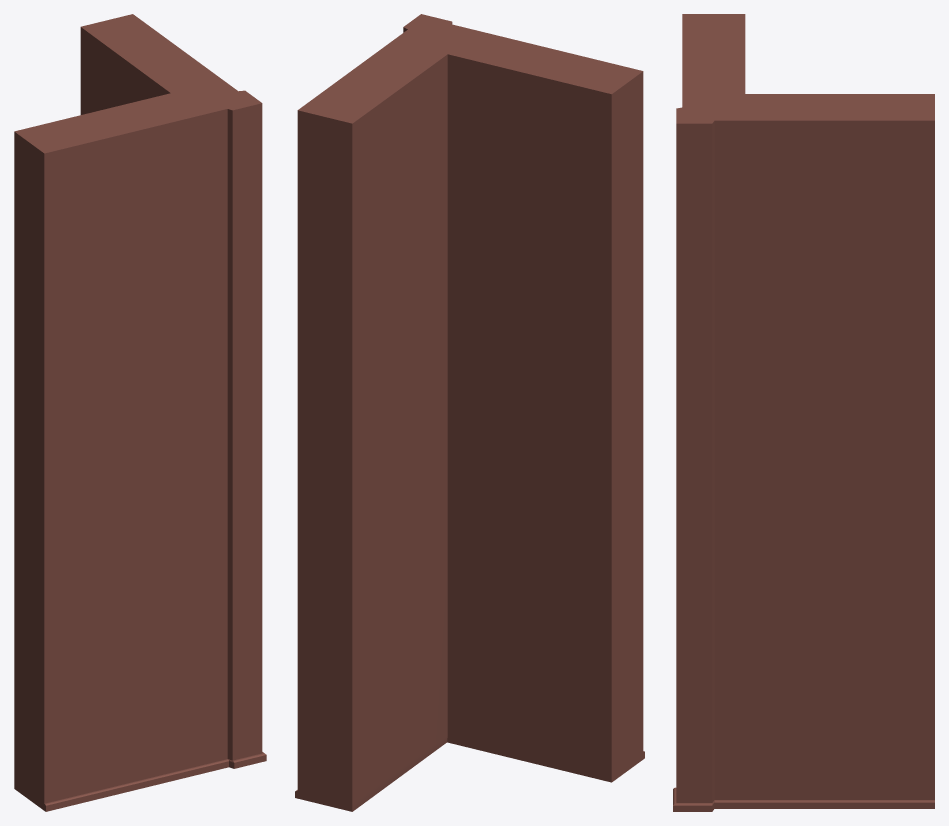
The model's file is Fabrik_Ecke.fbx.
3 views of the same model, side by side, from view 1: azimuth 30°, elevation 25°; view 2: azimuth 150°, elevation 25°; view 3: azimuth 270°, elevation 25° (orthographic). The views are drawn at different scales.
Visible parts, largest first — view 1: Fabrik_Ecke; view 2: Fabrik_Ecke; view 3: Fabrik_Ecke.
Boxes of the visible parts, box(x1,y1,x2,y2) form: Fabrik_Ecke: box(14, 14, 266, 811); Fabrik_Ecke: box(295, 14, 644, 811); Fabrik_Ecke: box(673, 14, 934, 811).
Bounding box in the file's own units: 4.16 × 12 × 4.15.
